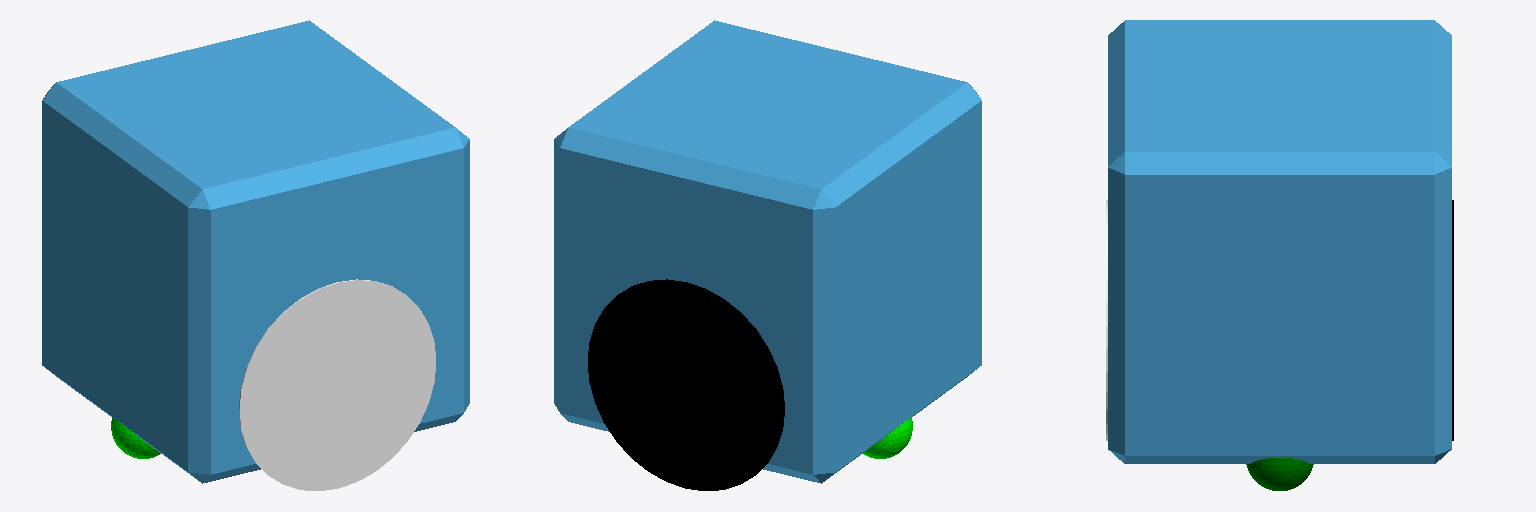
robot.urdf — box_bot:
<?xml version="1.0"?>
<robot name="box_bot">

  <material name="red">
      <color rgba="1.0 0.0 0.0 1"/>
  </material>

  <material name="green_light">
      <color rgba="0.0 1.0 0.0 1"/>
  </material>

  <material name="green_dark">
    <color rgba="0.0 0.5 0.0 1"/>
  </material>

  <material name="blue">
      <color rgba="0.0 0.0 1.0 1"/>
  </material>

  <material name="black">
      <color rgba="0.0 0.0 0.0 1"/>
  </material>

  <material name="white">
      <color rgba="1.0 1.0 1.0 1"/>
  </material>

  <link name="base_link">
  </link>


  <!-- Body -->
  <link name="chassis">
    <visual>
      <geometry>
        <mesh filename="package://my_box_bot_description/meshes/cute_cube.dae" scale="0.1 0.1 0.1"/>
      </geometry>
    </visual>
  </link>

  <joint name="base_link_joint" type="fixed">
    <origin rpy="0 0 0" xyz="0 0 0" />
    <parent link="base_link" />
    <child link="chassis" />
  </joint>

  <!-- Wheel Left -->
  <link name="left_wheel">      
      <visual>
        <origin rpy="0 1.5707 1.5707" xyz="0 0 0"/>
        <geometry>
          <cylinder length="0.001" radius="0.035"/>
        </geometry>
        <material name="black"/>
      </visual>
  </link>


  <joint name="joint_left_wheel" type="continuous">
    <origin rpy="0 0 0" xyz="0 0.05 -0.025"/>
    <child link="left_wheel"/>
    <parent link="chassis"/>
    <axis rpy="0 0 0" xyz="0 1 0"/>
    <limit effort="10000" velocity="1000"/>
    <joint_properties damping="1.0" friction="1.0"/>
  </joint>

  <!-- Wheel Right -->
  <link name="right_wheel">      
      <visual>
        <origin rpy="0 1.5707 1.5707" xyz="0 0 0"/>
        <geometry>
          <cylinder length="0.001" radius="0.035"/>
        </geometry>
        <material name="white"/>
      </visual>
  </link>


  <joint name="joint_right_wheel" type="continuous">  
    <origin rpy="0 0 0" xyz="0 -0.05 -0.025"/>
    <child link="right_wheel"/>
    <parent link="chassis"/>
    <axis rpy="0 0 0" xyz="0 1 0"/>
    <limit effort="10000" velocity="1000"/>
    <joint_properties damping="1.0" friction="1.0"/>
  </joint>


  <!-- Caster Wheel Front -->
  <link name="front_yaw_link">
      <visual>
        <origin rpy="0 1.5707 1.5707" xyz="0 0 0"/>
        <geometry>          
          <cylinder length="0.001" radius="0.0045000000000000005"/>
        </geometry>
        <material name="blue"/>
      </visual>
  </link>

  <joint name="front_yaw_joint" type="continuous">
    <origin rpy="0 0 0" xyz="0.04 0 -0.05" />
    <parent link="chassis" />
    <child link="front_yaw_link" />
    <axis xyz="0 0 1" />
    <limit effort="1000.0" velocity="100.0" />
    <dynamics damping="0.0" friction="0.1"/>
  </joint>



  <link name="front_roll_link">
      <visual>
        <origin rpy="0 1.5707 1.5707" xyz="0 0 0"/>
        <geometry>
          <cylinder length="0.001" radius="0.0045000000000000005"/>
        </geometry>
        <material name="red"/>
      </visual>
  </link>

  <joint name="front_roll_joint" type="continuous">
    <origin rpy="0 0 0" xyz="0 0 0" />
    <parent link="front_yaw_link" />
    <child link="front_roll_link" />
    <axis xyz="1 0 0" />
    <limit effort="1000.0" velocity="100.0" />
    <dynamics damping="0.0" friction="0.1"/>
  </joint>


  <link name="front_pitch_link">
    <visual>
      <origin rpy="0 1.5707 1.5707" xyz="0 0 0"/>
      <geometry>
        <sphere radius="0.010"/>
      </geometry>
      <material name="green_dark"/>
    </visual>
  </link>



  <joint name="front_pitch_joint" type="continuous">
    <origin rpy="0 0 0" xyz="0 0 0" />
    <parent link="front_roll_link" />
    <child link="front_pitch_link" />
    <axis xyz="0 1 0" />
    <limit effort="1000.0" velocity="100.0" />
    <dynamics damping="0.0" friction="0.1"/>
  </joint>

<!-- Caster Wheel Back -->
  <link name="back_yaw_link">
    <visual>
        <origin rpy="0 1.5707 1.5707" xyz="0 0 0"/>
        <geometry>
          <cylinder length="0.001" radius="0.0045000000000000005"/>
        </geometry>
        <material name="blue"/>
      </visual>

  </link>

  <joint name="back_yaw_joint" type="continuous">
    <origin rpy="0 0 0" xyz="-0.04 0 -0.05" />
    <parent link="chassis" />
    <child link="back_yaw_link" />
    <axis xyz="0 0 1" />
    <limit effort="1000.0" velocity="100.0" />
    <dynamics damping="0.0" friction="0.1"/>
  </joint>



  <link name="back_roll_link">
      <visual>
        <origin rpy="0 1.5707 1.5707" xyz="0 0 0"/>
        <geometry>
          <cylinder length="0.001" radius="0.0045000000000000005"/>
        </geometry>
        <material name="red"/>
      </visual>
  </link>

  <joint name="back_roll_joint" type="continuous">
    <origin rpy="0 0 0" xyz="0 0 0" />
    <parent link="back_yaw_link" />
    <child link="back_roll_link" />
    <axis xyz="1 0 0" />
    <limit effort="1000.0" velocity="100.0" />
    <dynamics damping="0.0" friction="0.1"/>
  </joint>



  <link name="back_pitch_link">
    <visual>
      <origin rpy="0 1.5707 1.5707" xyz="0 0 0"/>
      <geometry>
        <sphere radius="0.010"/>
      </geometry>
      <material name="green_light"/>
    </visual>
  </link>

  <joint name="back_pitch_joint" type="continuous">
    <origin rpy="0 0 0" xyz="0 0 0" />
    <parent link="back_roll_link" />
    <child link="back_pitch_link" />
    <axis xyz="0 1 0" />
    <limit effort="1000.0" velocity="100.0" />
    <dynamics damping="0.0" friction="0.1"/>
  </joint>

</robot>

--- What the picture shows (computed from the rendered views, not written in the file) ---
Views: 3 orthographic renders of the robot side by side, from view 1: azimuth 30°, elevation 25°; view 2: azimuth 150°, elevation 25°; view 3: azimuth 270°, elevation 25°.
Robot: box_bot — 10 links, 9 joints (8 continuous, 1 fixed); root link base_link; default pose: all joints at 0.
Links seen in each view (by area): view 1: chassis, right_wheel, back_pitch_link; view 2: chassis, left_wheel, back_pitch_link; view 3: chassis, front_pitch_link.
Link boxes in pixels (x1=…): chassis: x1=42, y1=20, x2=469, y2=483; right_wheel: x1=239, y1=279, x2=435, y2=490; back_pitch_link: x1=111, y1=417, x2=160, y2=458; chassis: x1=554, y1=20, x2=981, y2=483; left_wheel: x1=588, y1=279, x2=784, y2=490; back_pitch_link: x1=863, y1=417, x2=912, y2=458; chassis: x1=1108, y1=20, x2=1451, y2=463; front_pitch_link: x1=1246, y1=458, x2=1313, y2=490.
Size in the robot's own frame: 0.1 by 0.101 by 0.11 metres.
Meshes: 1 distinct files referenced, 1 mesh visuals loaded (1 Collada DAE).